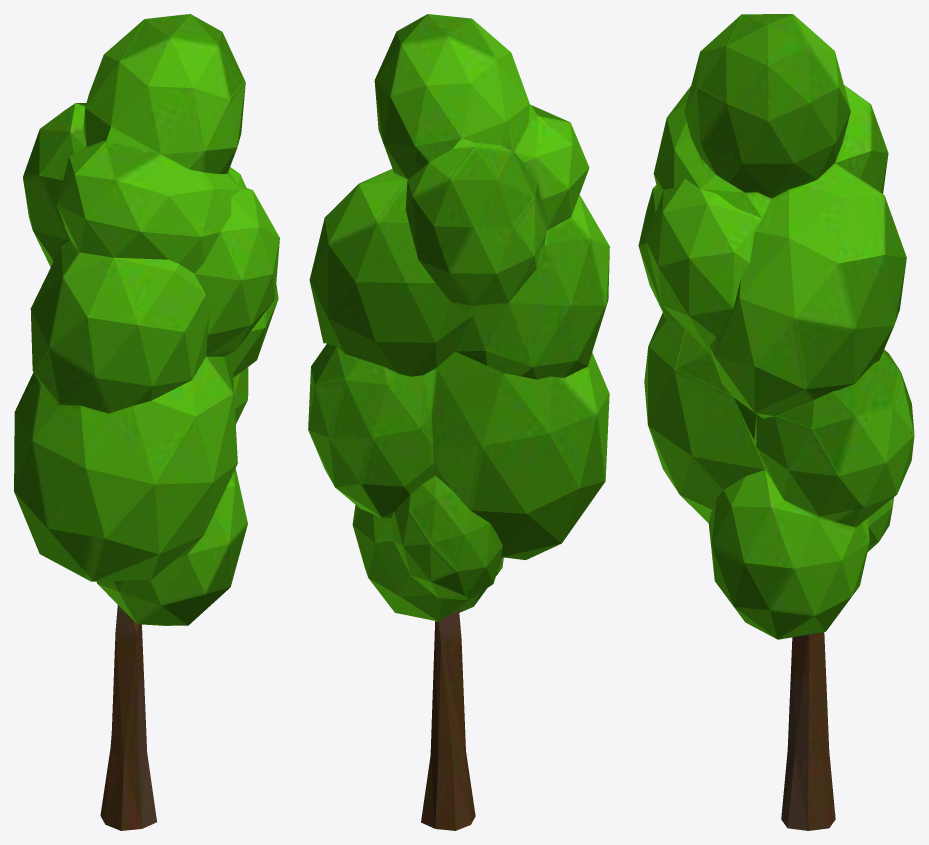
File: tree7.glb
3 views of the same model, side by side, from view 1: azimuth 30°, elevation 25°; view 2: azimuth 150°, elevation 25°; view 3: azimuth 270°, elevation 25° (orthographic). The views are drawn at different scales.
Parts seen in each view (by area): view 1: car; view 2: car; view 3: car.
Part boxes in pixels (x1,y1,x2,y2): car: (14,14,279,830); car: (308,14,609,830); car: (638,14,914,830).
Size of the model in its own units: 0.9204 by 2.78 by 0.8524.
1 material, 1 textured.
